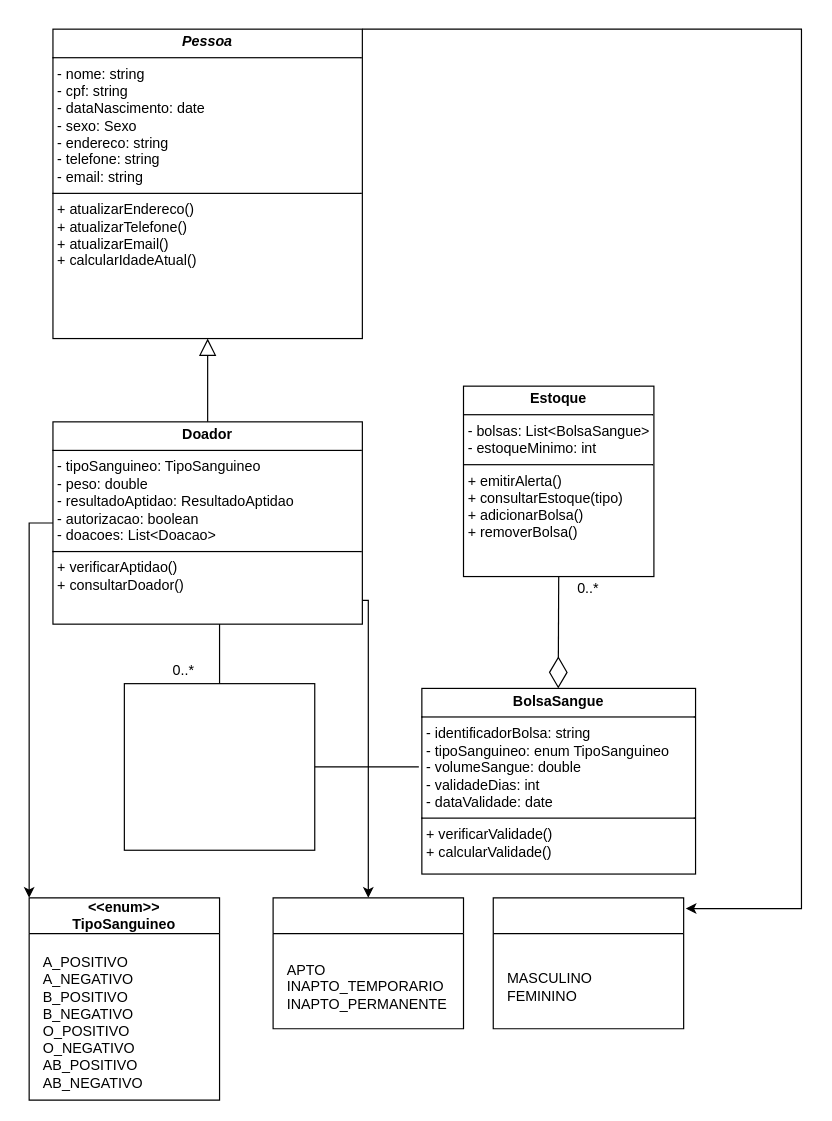
Image size: 832x1121. Some labels were removed from this diagram. The shapes that lost their labels are listed below. From the top down, each one's box as (x1, y1, x2, y2) in pixels, then its label:
(123, 682, 315, 850): Doacao - dataColeta: date - votoAutoexclusao: boolean - intercorrencias: boolean
(272, 897, 464, 1029): <<enum>> ResultadoAptidao
(492, 897, 684, 1029): <<enum>> Sexo
